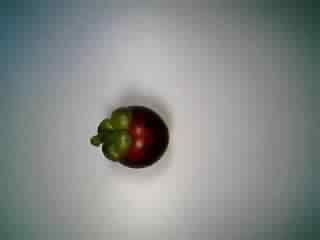mangosteen: (88, 99, 171, 172)
